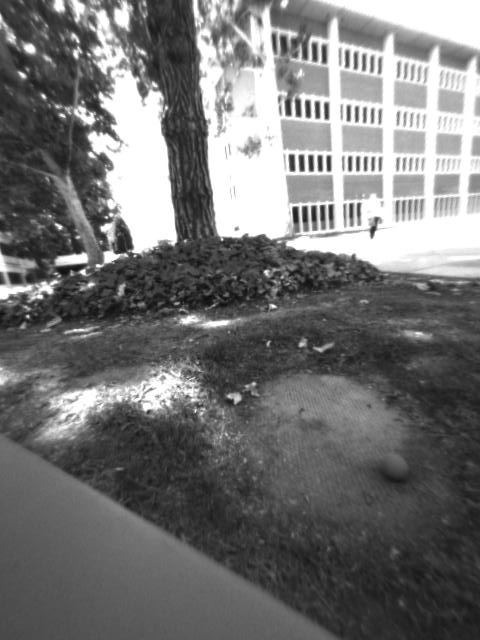dogtoy: (364, 438, 427, 492)
